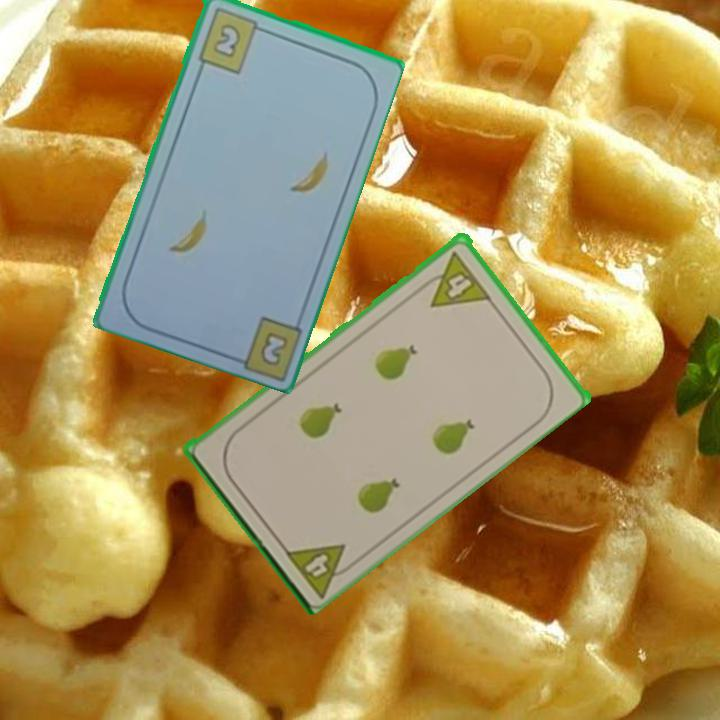2b: (194, 3, 269, 75), (256, 327, 291, 368)
4p: (280, 539, 361, 599), (416, 247, 493, 310)
